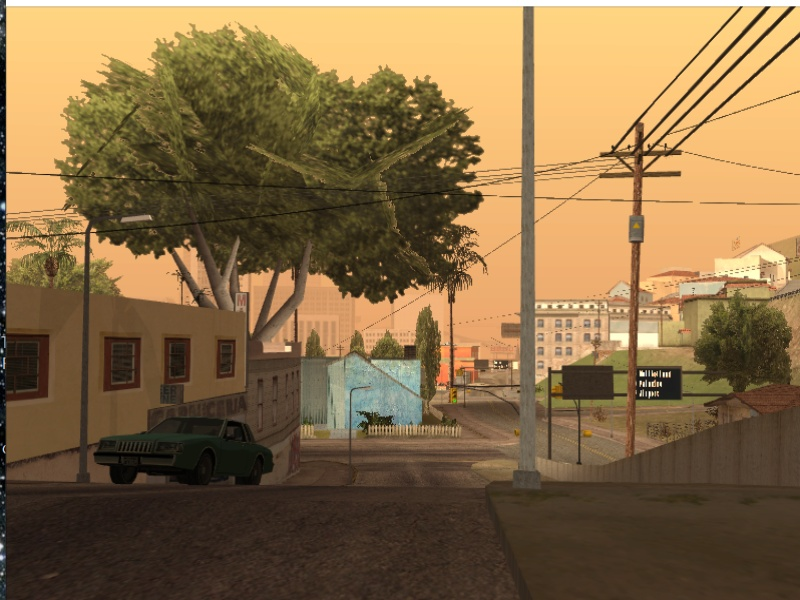pole: (516, 13, 544, 491), (81, 225, 94, 490), (347, 387, 358, 485)
vehicle: (94, 407, 275, 495)
